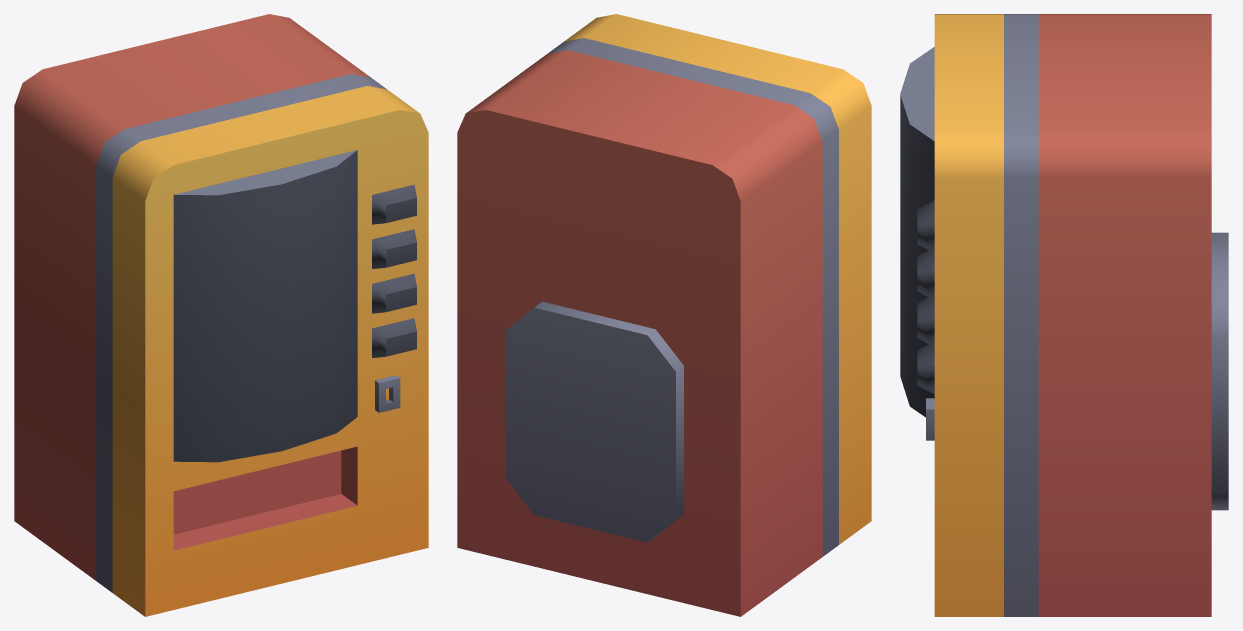
File: vending-machine.obj
3 renders of one model, left to right at view 1: azimuth 30°, elevation 25°; view 2: azimuth 150°, elevation 25°; view 3: azimuth 270°, elevation 25°, orthographic. The views are drawn at different scales.
Visible parts, largest first — view 1: vending-machine; view 2: vending-machine; view 3: vending-machine.
Part boxes in pixels (left/top/right/bottom): vending-machine: left=14, top=14, right=428, bottom=616; vending-machine: left=457, top=14, right=871, bottom=616; vending-machine: left=900, top=14, right=1228, bottom=616.
Bounding box in the file's own units: 0.5 × 0.75 × 0.475.
